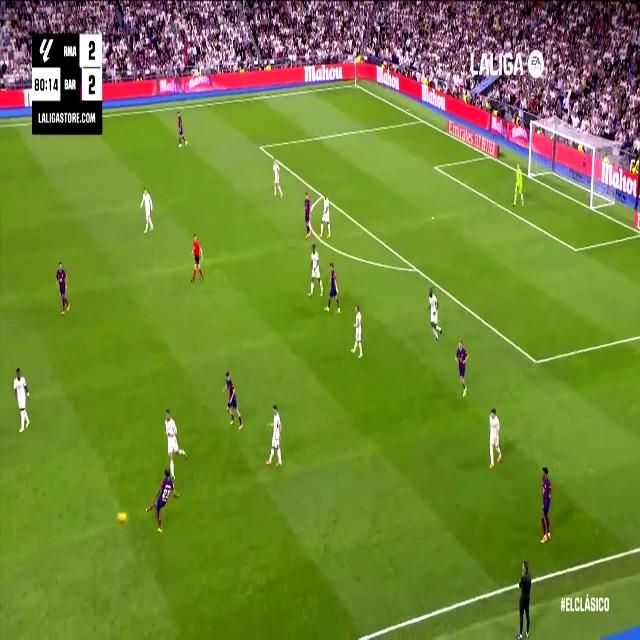bigarea_bottom_inner: (530, 348, 542, 374)
bigarea_top_inner: (257, 138, 264, 154)
bottom_arc_area_intersection: (412, 259, 421, 278)
corner: (350, 77, 360, 89)
smallarea_bottom_inner: (571, 240, 580, 259)
smallarea_top_inner: (432, 159, 438, 173)
top_arc_area_intersection: (319, 187, 325, 202)
